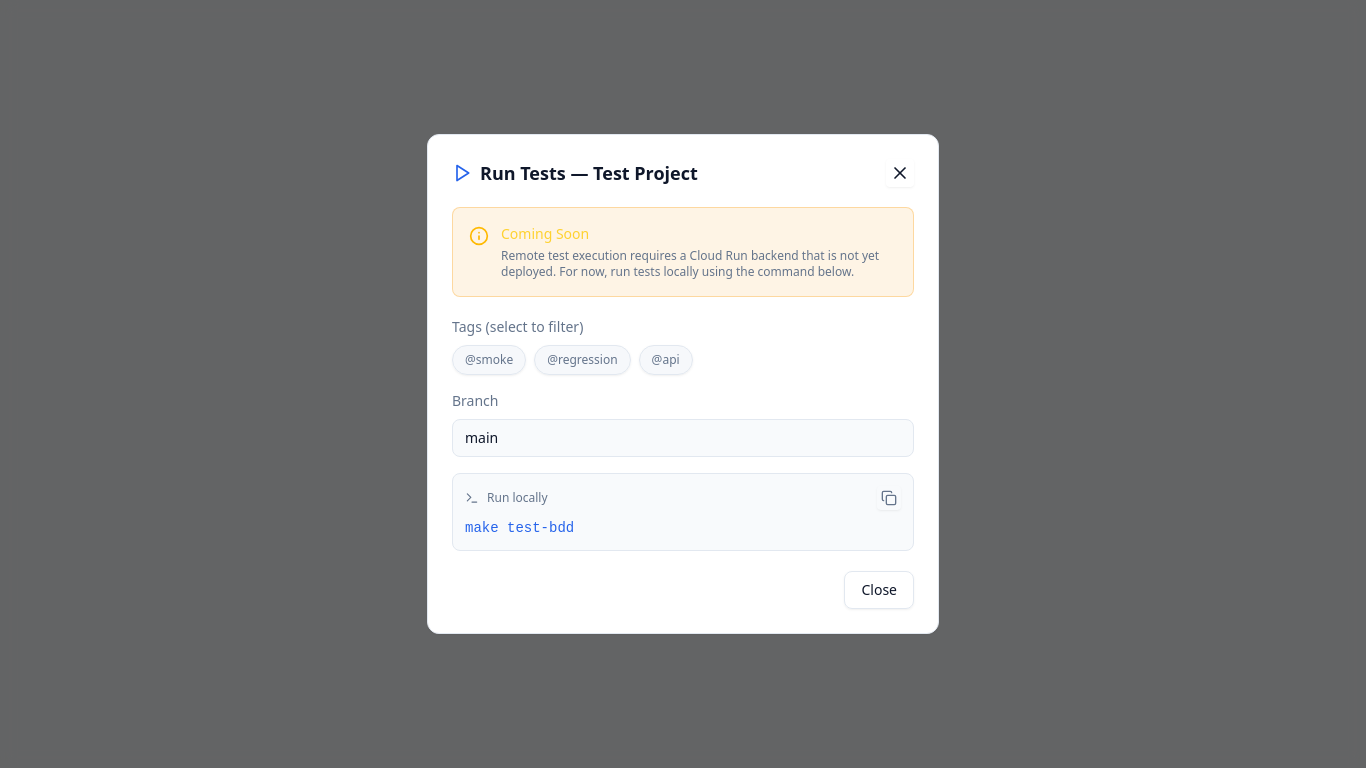
RunTestsDialog › updates command preview when tags are selected
Click the button "@smoke".
click(489, 360)  # box x1=452 y1=345 x2=526 y2=375
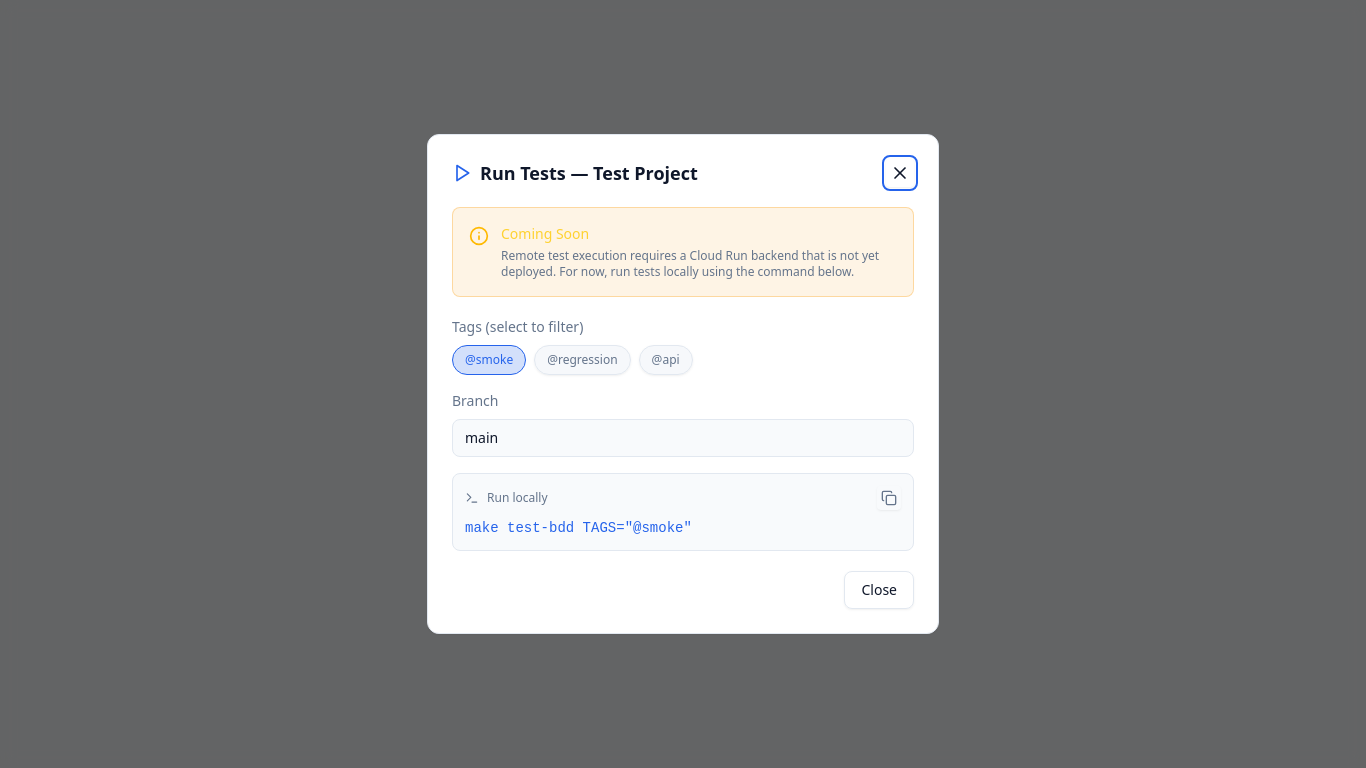
Check: the text "make test-bdd TAGS=\"@smoke\"" is shown, box x1=465 y1=520 x2=692 y2=536
